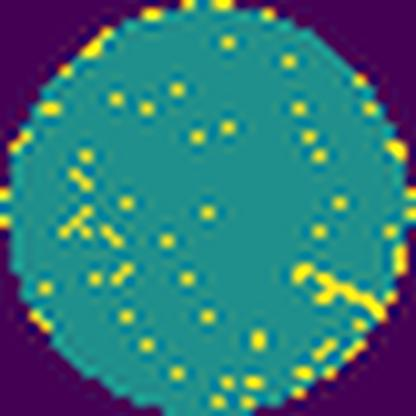Scratch: (289, 258, 385, 322)
